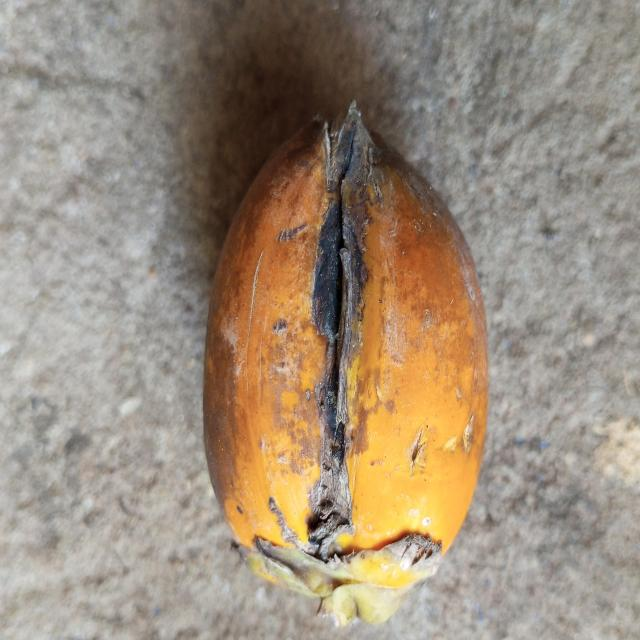damaged: (202, 104, 490, 627)
